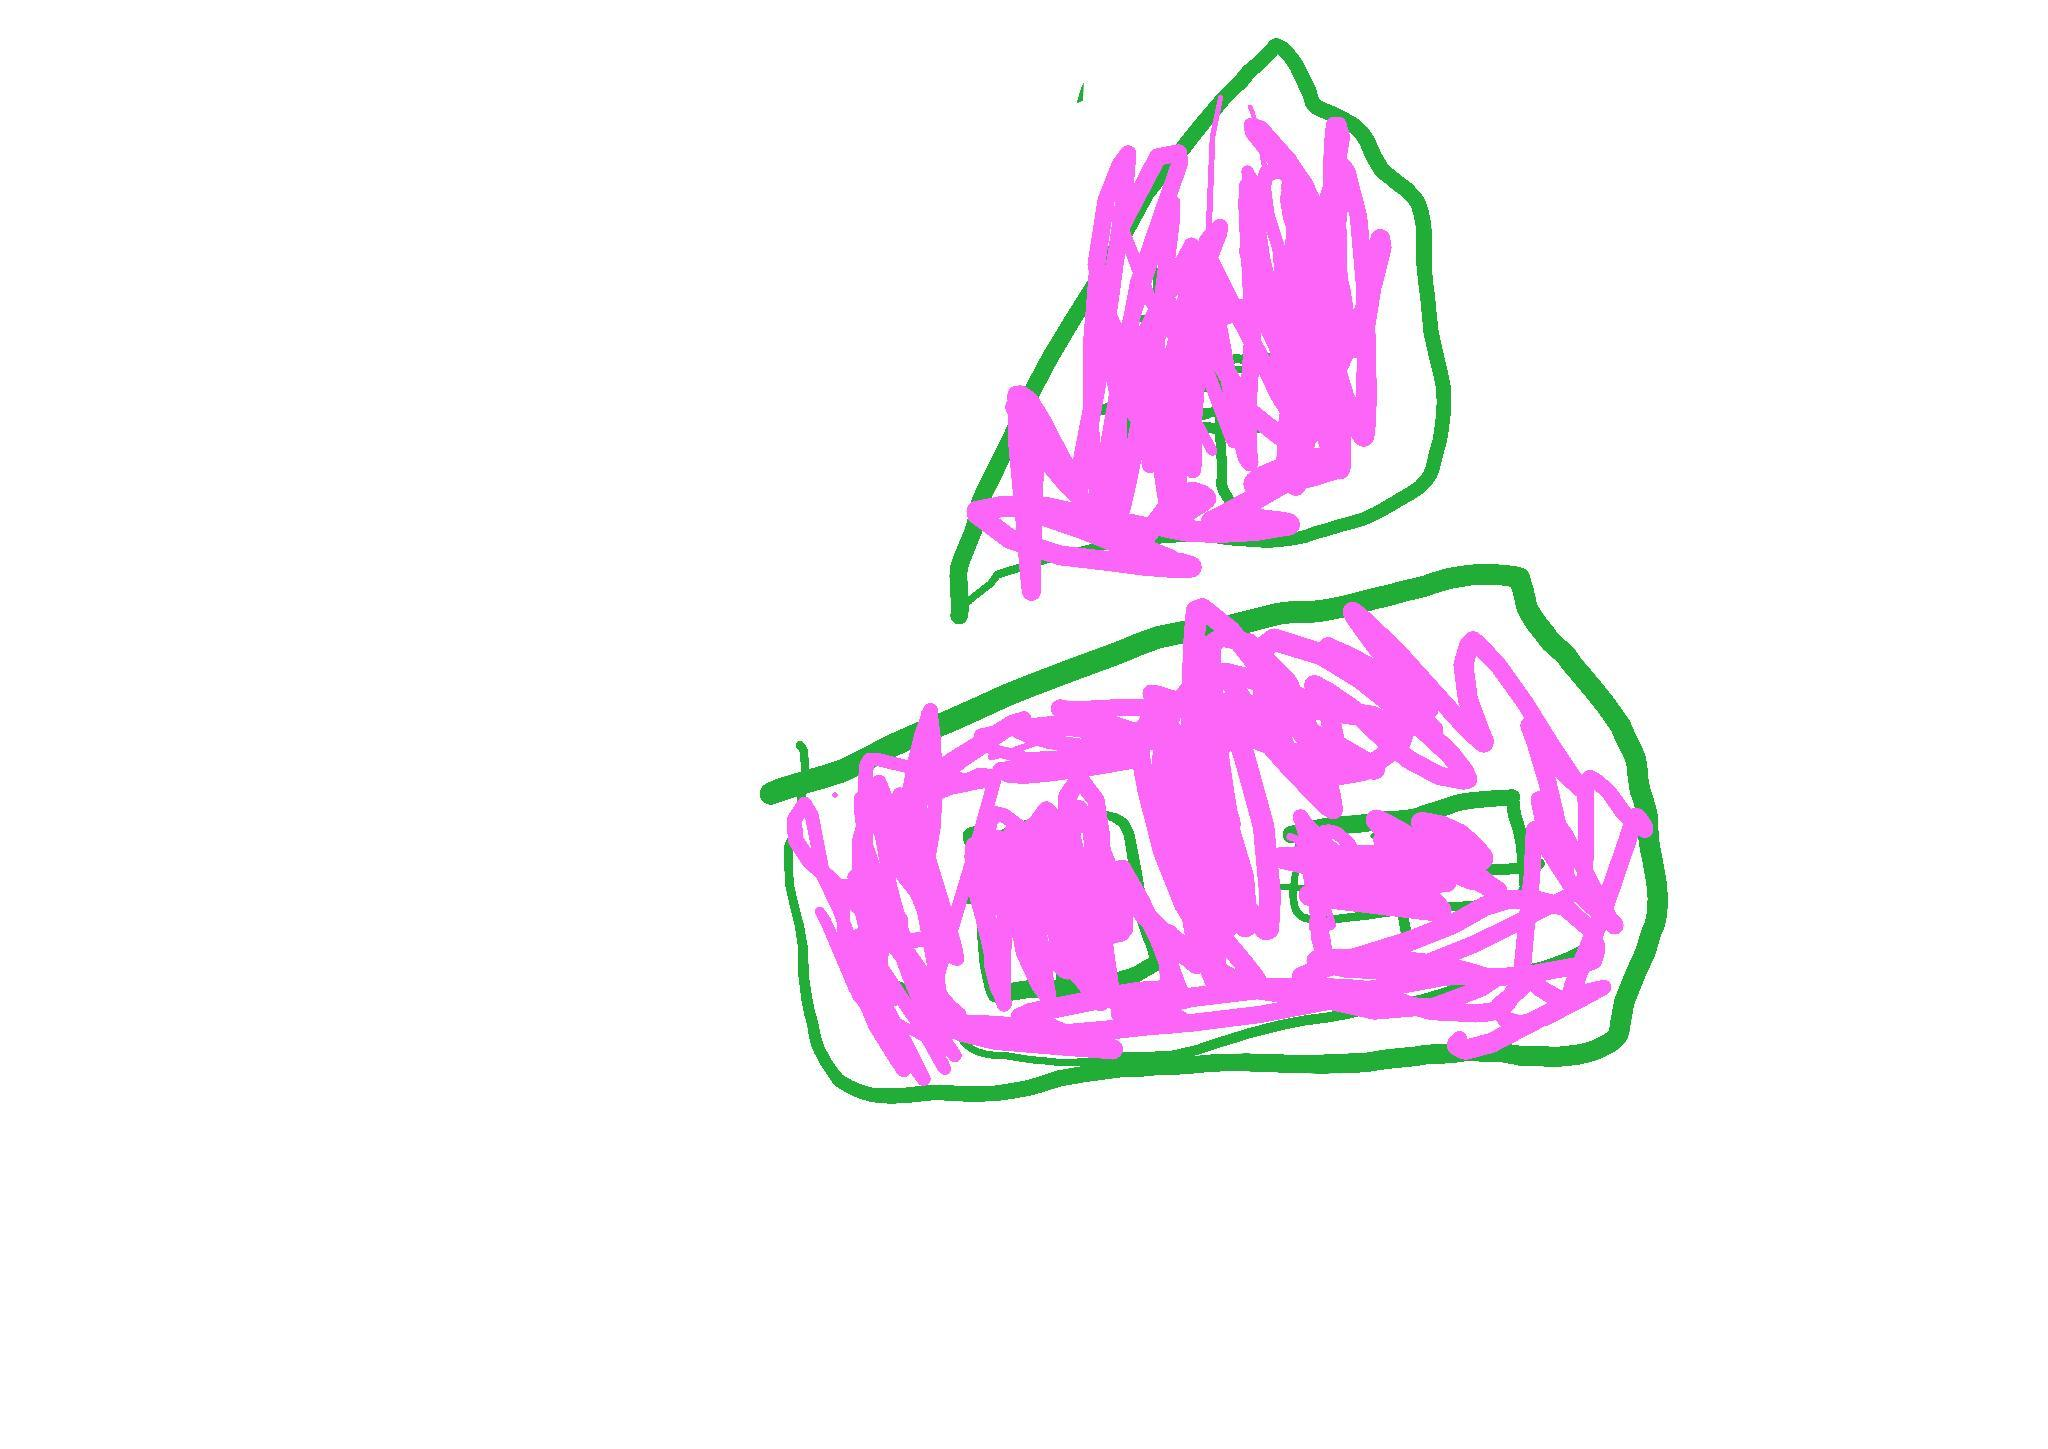roof: (953, 42, 1449, 619)
wall: (764, 569, 1664, 1102)
